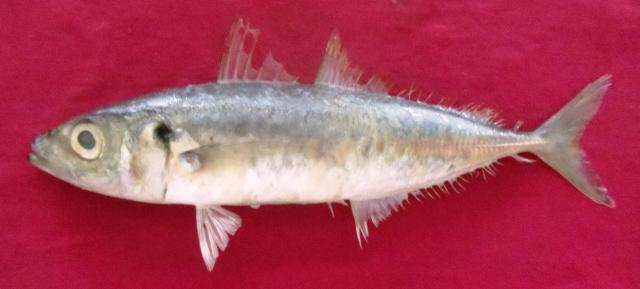Mulut: (21, 119, 57, 180)
Sirip Anal: (341, 153, 523, 249)
Sirip Dada: (175, 128, 322, 182)
Sirip Ekor: (532, 52, 626, 218)
Sirip Perut: (186, 193, 250, 277)
Sirip Punggung: (204, 10, 400, 102)
